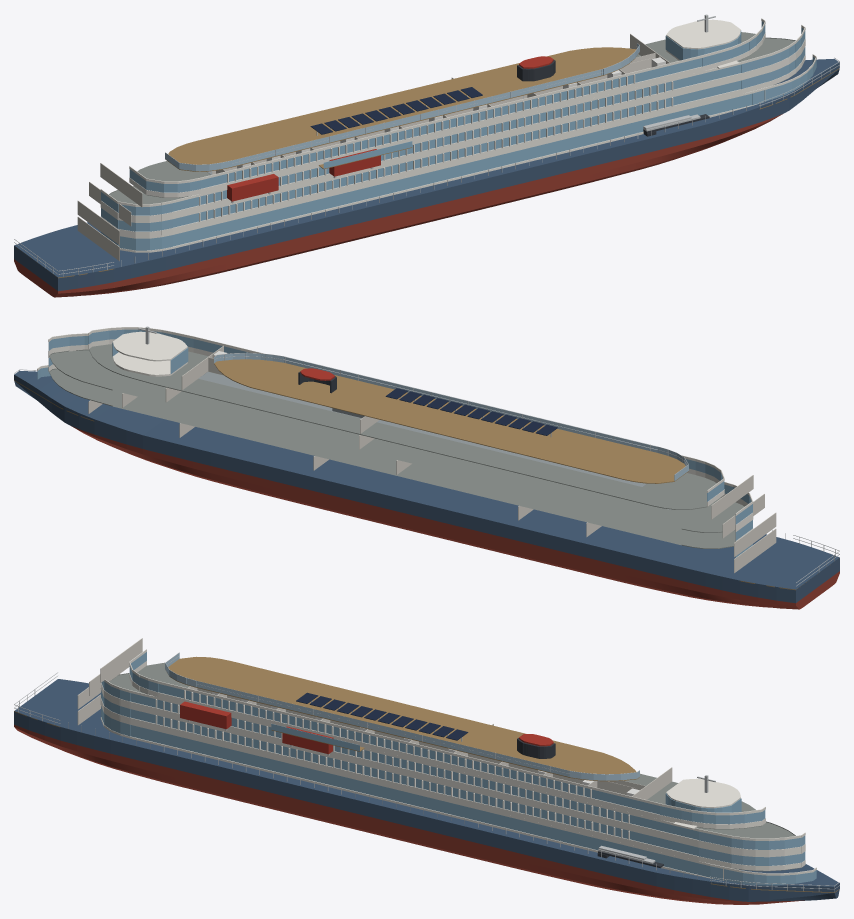
Rendered from vessel_cutaway.glb.
3 views of the same model, one above another, from view 1: azimuth 30°, elevation 25°; view 2: azimuth 150°, elevation 25°; view 3: azimuth 330°, elevation 25° (orthographic).
Parts seen in each view (by area): view 1: vessel_cutaway (×13); view 2: vessel_cutaway (×11); view 3: vessel_cutaway (×12).
Part boxes in pixels (x1,y1,x2,y2): vessel_cutaway (×13): (14,14,839,297); vessel_cutaway (×11): (14,326,839,609); vessel_cutaway (×12): (14,638,839,904).
Size of the model in its own units: 141 by 19.42 by 16.8.
